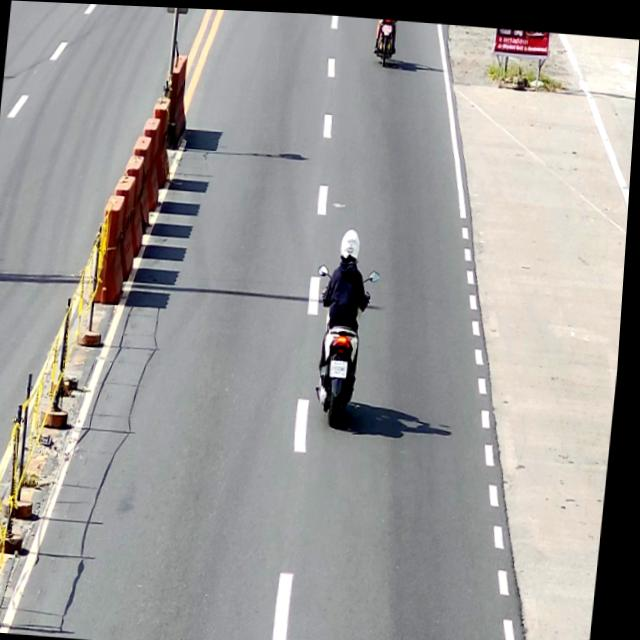License-Plate: (333, 355, 353, 375), (381, 20, 393, 29)
Motorcycle: (306, 260, 385, 425), (371, 15, 399, 62)
